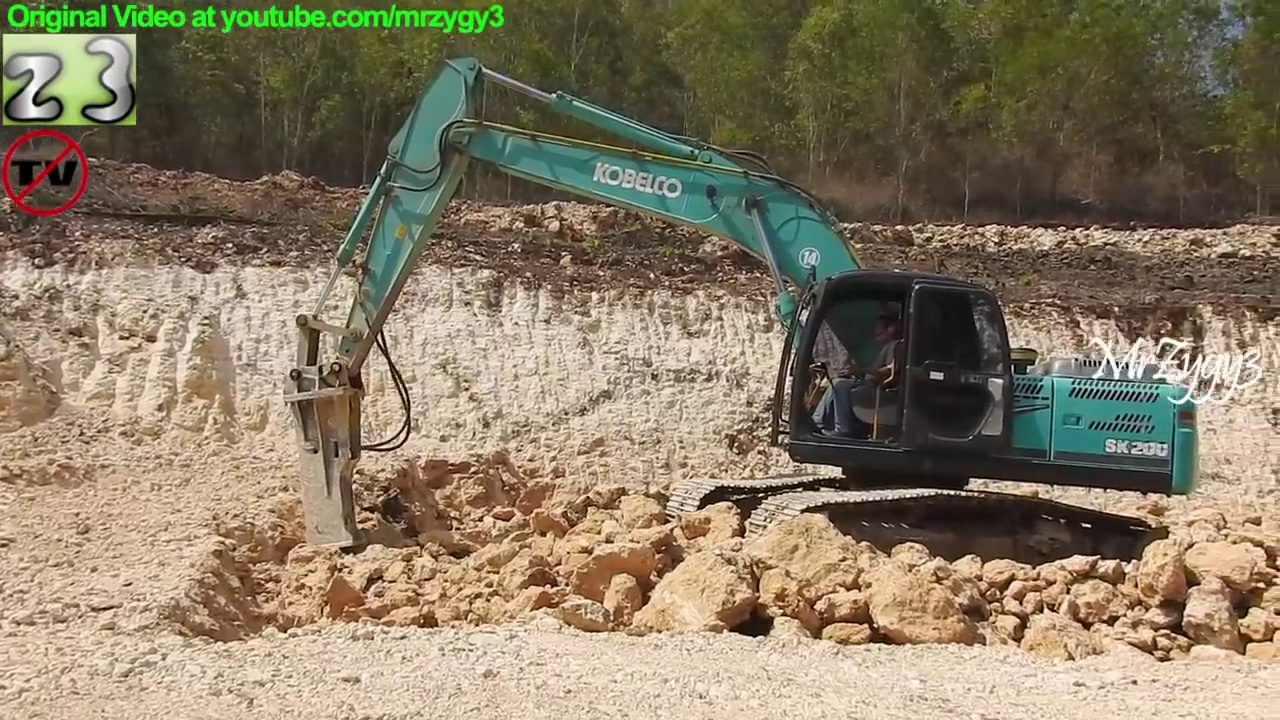excavator breaker: (279, 54, 1205, 586)
